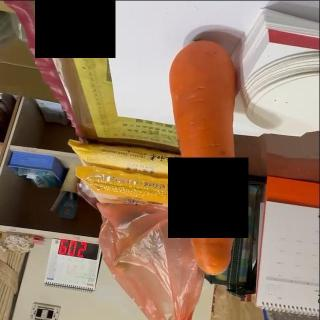carrot: (168, 38, 240, 276)
